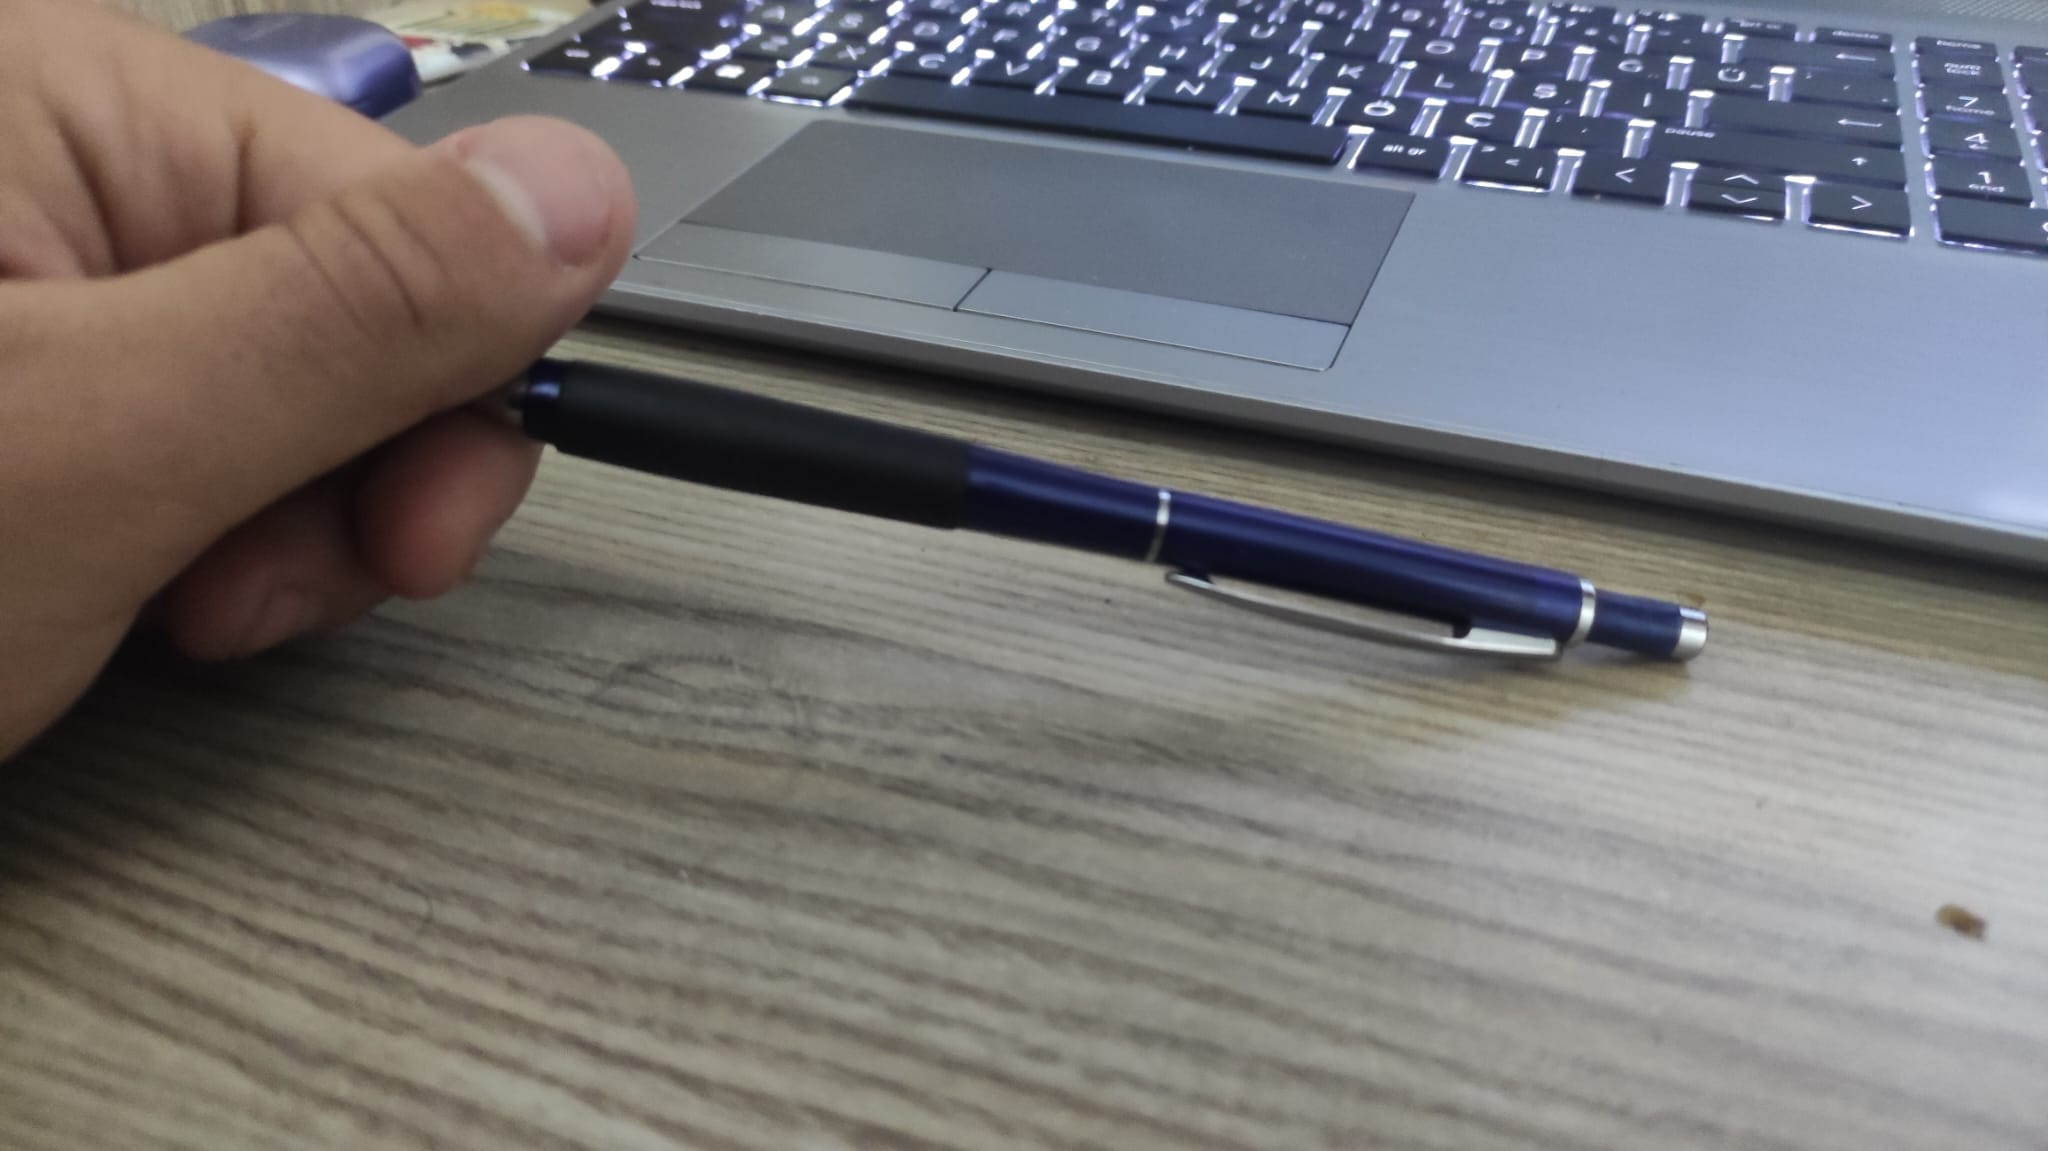kalem: (446, 350, 1712, 668)
